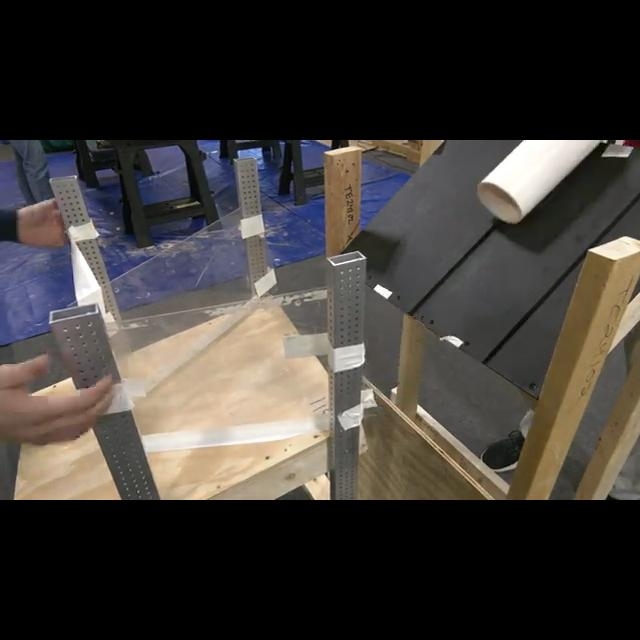CORAL: (476, 140, 604, 224)
